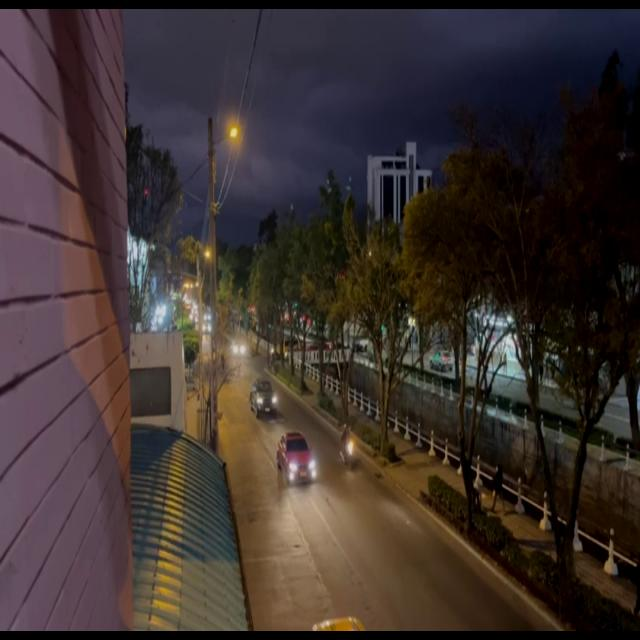MOTORCYCLE: (341, 428, 358, 468)
SUV: (252, 380, 277, 415)
